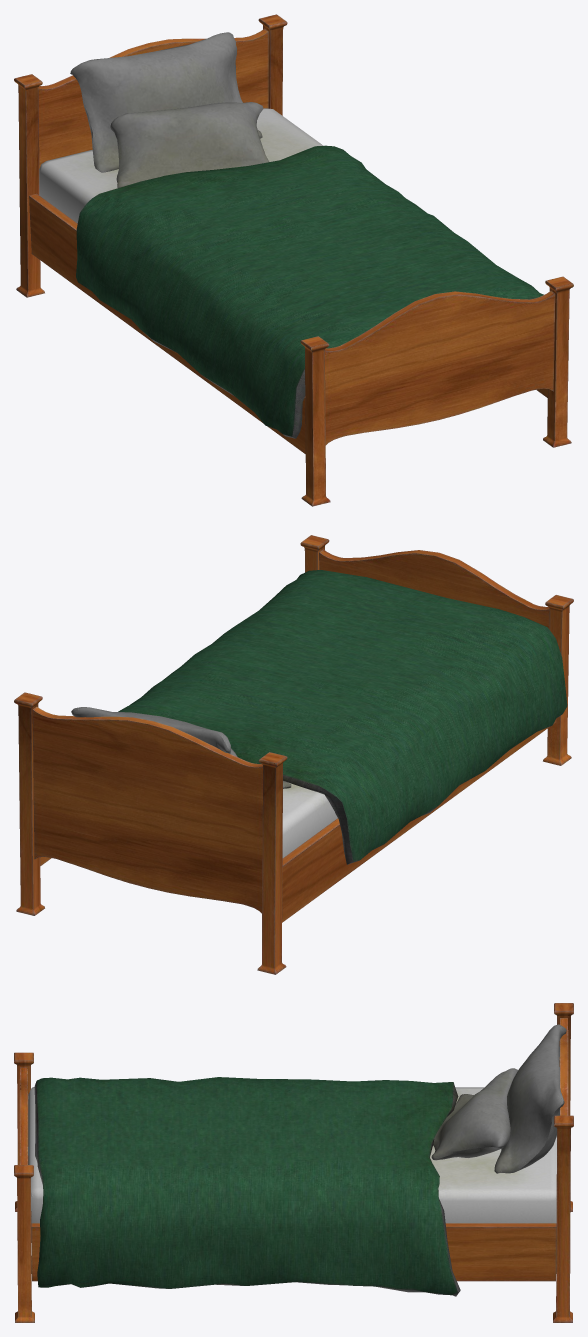
The model's file is bed_02.glb.
3 renders of one model, top to bottom at view 1: azimuth 30°, elevation 25°; view 2: azimuth 150°, elevation 25°; view 3: azimuth 270°, elevation 25°, orthographic. The views are drawn at different scales.
Visible parts, largest first — view 1: Bed_low; view 2: Bed_low; view 3: Bed_low.
Boxes of the visible parts, x1,y1,x2,y2 form: Bed_low: (14, 14, 573, 506); Bed_low: (14, 535, 573, 974); Bed_low: (14, 1003, 573, 1322).
Size of the model in its own units: 1.15 by 0.8258 by 2.02.
Materials: 3 (3 with a texture image).
